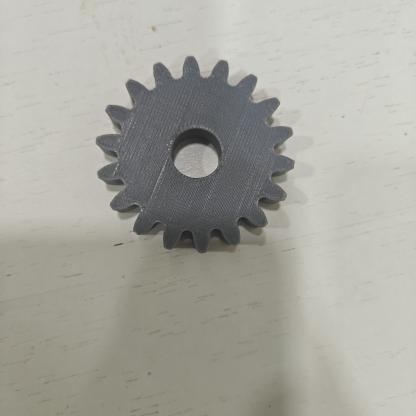gear: (86, 46, 305, 267)
